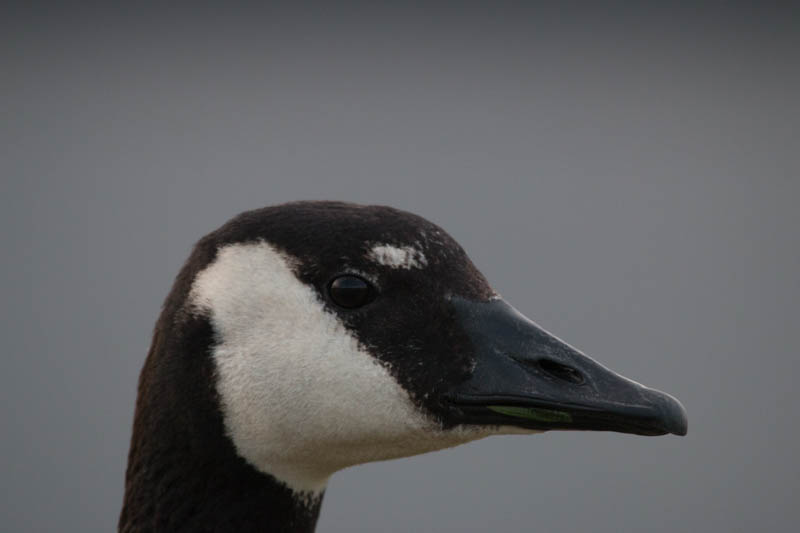goose-head: (125, 200, 687, 496)
